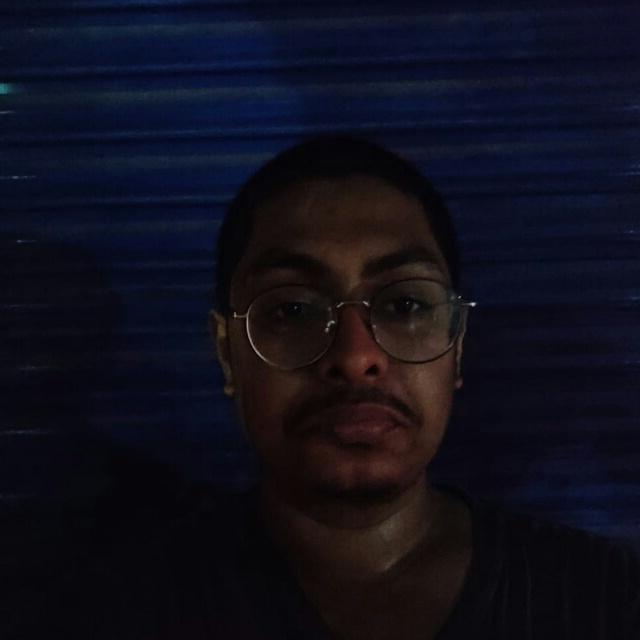Sad: (146, 116, 507, 530)
